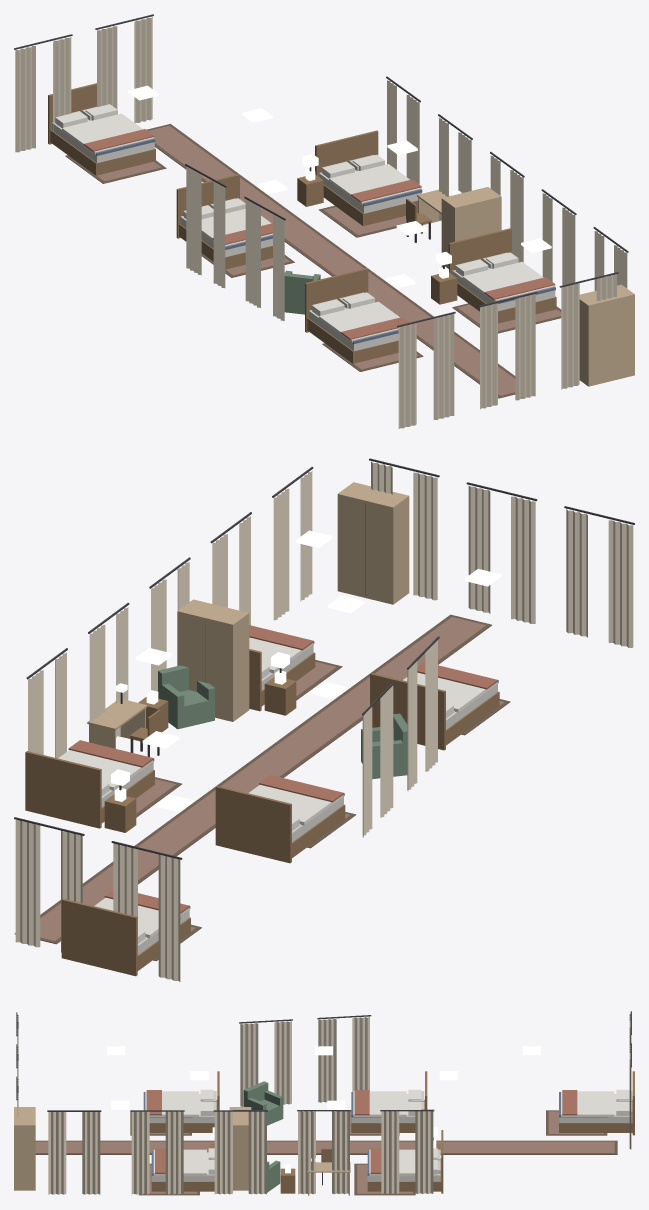
The model's file is fine-s1.glb.
3 renders of one model, top to bottom at view 1: azimuth 30°, elevation 25°; view 2: azimuth 150°, elevation 25°; view 3: azimuth 270°, elevation 25°, orthographic. The views are drawn at different scales.
Parts seen in each view (by area): view 1: soft-s1, dresser.001, bed-frame.004, bed-frame.000, bed-frame.002, bed-frame.001, dresser.000, bed-frame.003, lounge-chair.001, nightstand.000, nightstand.001, writing-desk.000; view 2: soft-s1, dresser.001, dresser.000, bed-frame.003, bed-frame.000, bed-frame.002, bed-frame.004, lounge-chair.000, writing-desk.000, bed-frame.001, lounge-chair.001, nightstand.000 (+1 smaller); view 3: soft-s1, dresser.001, bed-frame.002, dresser.000, lounge-chair.001, bed-frame.004, bed-frame.003, bed-frame.000, bed-frame.001, side-table.000, lounge-chair.000, writing-desk.000.
Boxes of the visible parts, x1,y1,x2,y2 form: soft-s1: [14, 14, 628, 428]; dresser.001: [579, 284, 634, 386]; bed-frame.004: [305, 268, 398, 363]; bed-frame.000: [315, 130, 422, 226]; bed-frame.002: [48, 83, 155, 175]; bed-frame.001: [448, 228, 556, 323]; dresser.000: [441, 187, 501, 268]; bed-frame.003: [176, 174, 272, 269]; lounge-chair.001: [284, 270, 320, 314]; nightstand.000: [297, 169, 323, 206]; nightstand.001: [431, 266, 457, 304]; writing-desk.000: [417, 189, 461, 224]; soft-s1: [14, 458, 634, 981]; dresser.001: [337, 482, 409, 604]; dresser.000: [177, 599, 249, 721]; bed-frame.003: [215, 785, 345, 863]; bed-frame.000: [25, 751, 154, 828]; bed-frame.002: [61, 898, 190, 976]; bed-frame.004: [370, 673, 499, 750]; lounge-chair.000: [158, 665, 214, 729]; writing-desk.000: [87, 683, 147, 748]; bed-frame.001: [249, 641, 315, 711]; lounge-chair.001: [361, 713, 407, 779]; nightstand.000: [104, 787, 136, 832]; soft-s1: [16, 1011, 631, 1195]; dresser.001: [14, 1107, 35, 1190]; bed-frame.002: [559, 1071, 634, 1135]; dresser.000: [229, 1107, 251, 1190]; lounge-chair.001: [243, 1081, 283, 1125]; bed-frame.004: [143, 1071, 219, 1132]; bed-frame.003: [351, 1071, 427, 1132]; bed-frame.000: [367, 1130, 443, 1193]; bed-frame.001: [151, 1150, 214, 1191]; side-table.000: [280, 1164, 295, 1193]; lounge-chair.000: [267, 1160, 280, 1192]; writing-desk.000: [307, 1156, 350, 1195].
Size of the model in its own units: 6.53 by 2.61 by 17.18.
